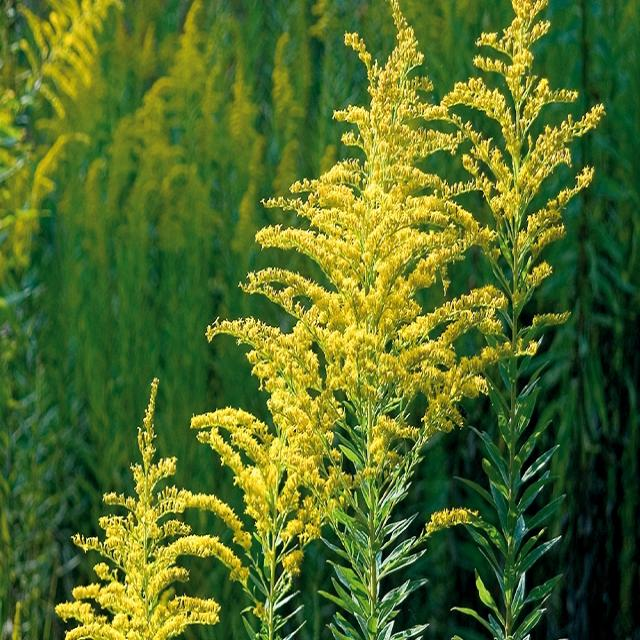ambrosia: (258, 16, 476, 486), (469, 0, 587, 434), (190, 309, 320, 636), (66, 390, 216, 640)
